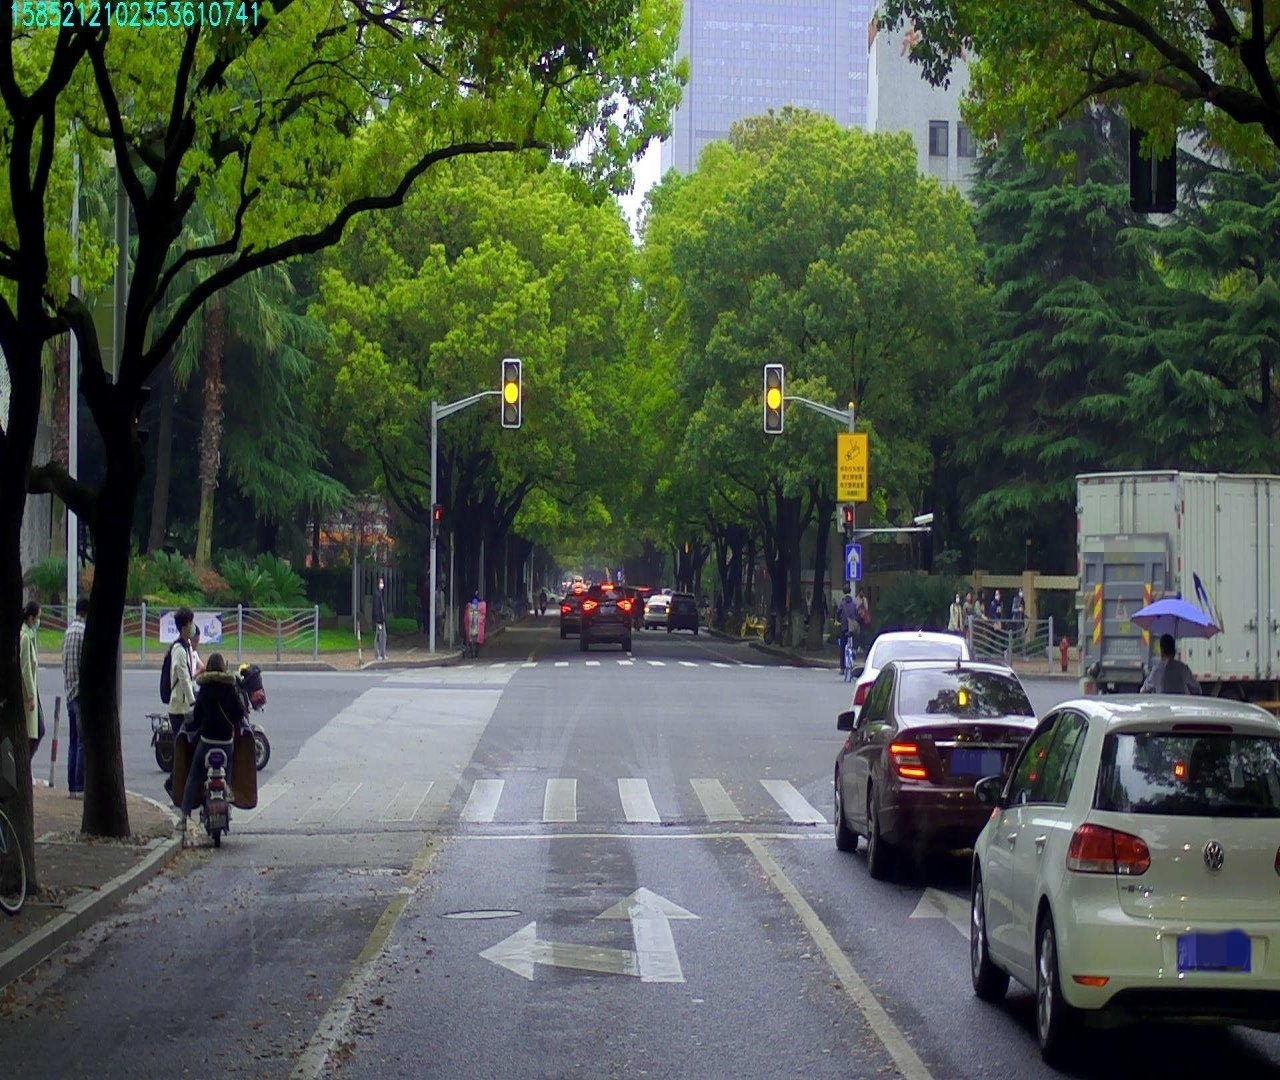yellow: (502, 360, 519, 427), (765, 365, 782, 432)
